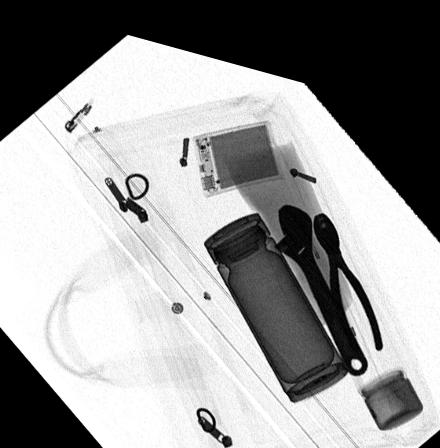Pliers: (311, 193, 383, 336)
Powerbank: (192, 106, 283, 185)
Wrench: (271, 187, 369, 354)
